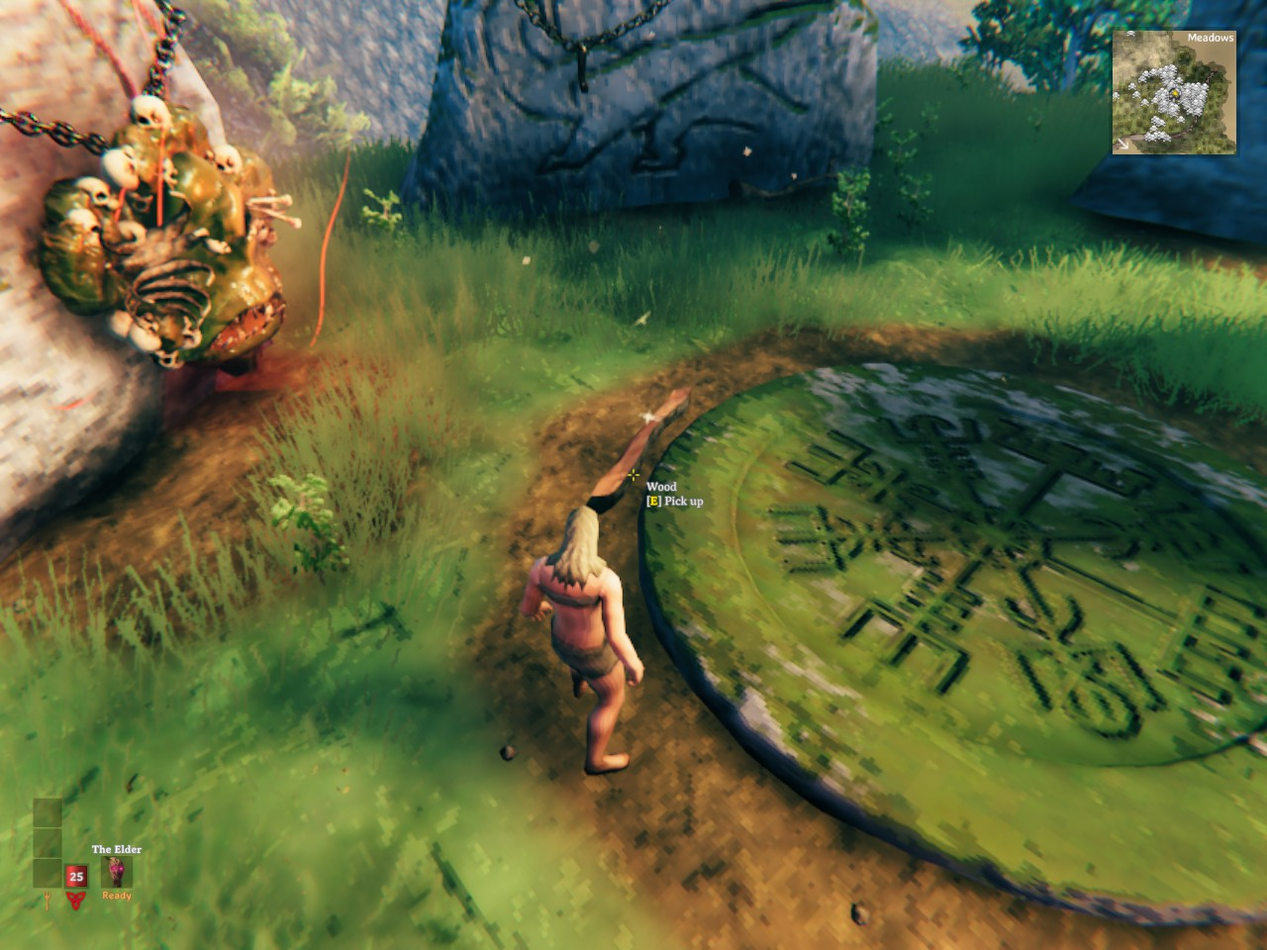Health Bar: (65, 865, 87, 888)
Wood: (588, 387, 690, 514)
